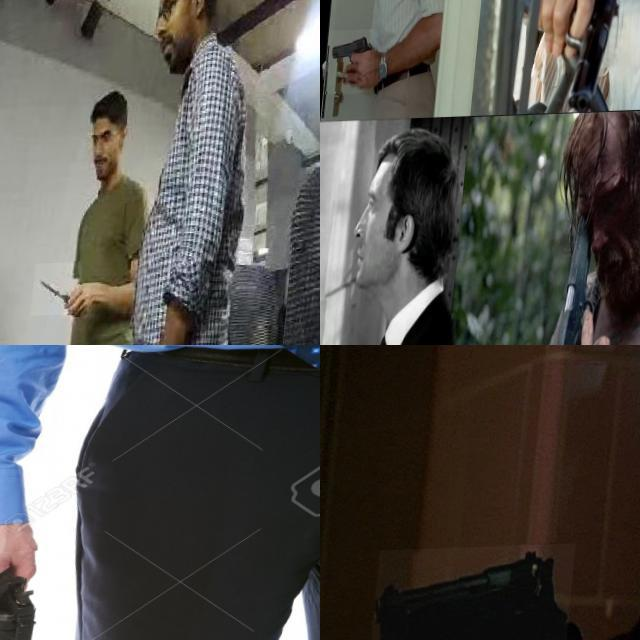-: (38, 265, 89, 319)
gun-knife-thesis - v11 Yolov5 augmented: (363, 545, 581, 640), (558, 210, 640, 345), (532, 0, 627, 116), (0, 552, 55, 640), (330, 31, 383, 97), (320, 273, 350, 345)
